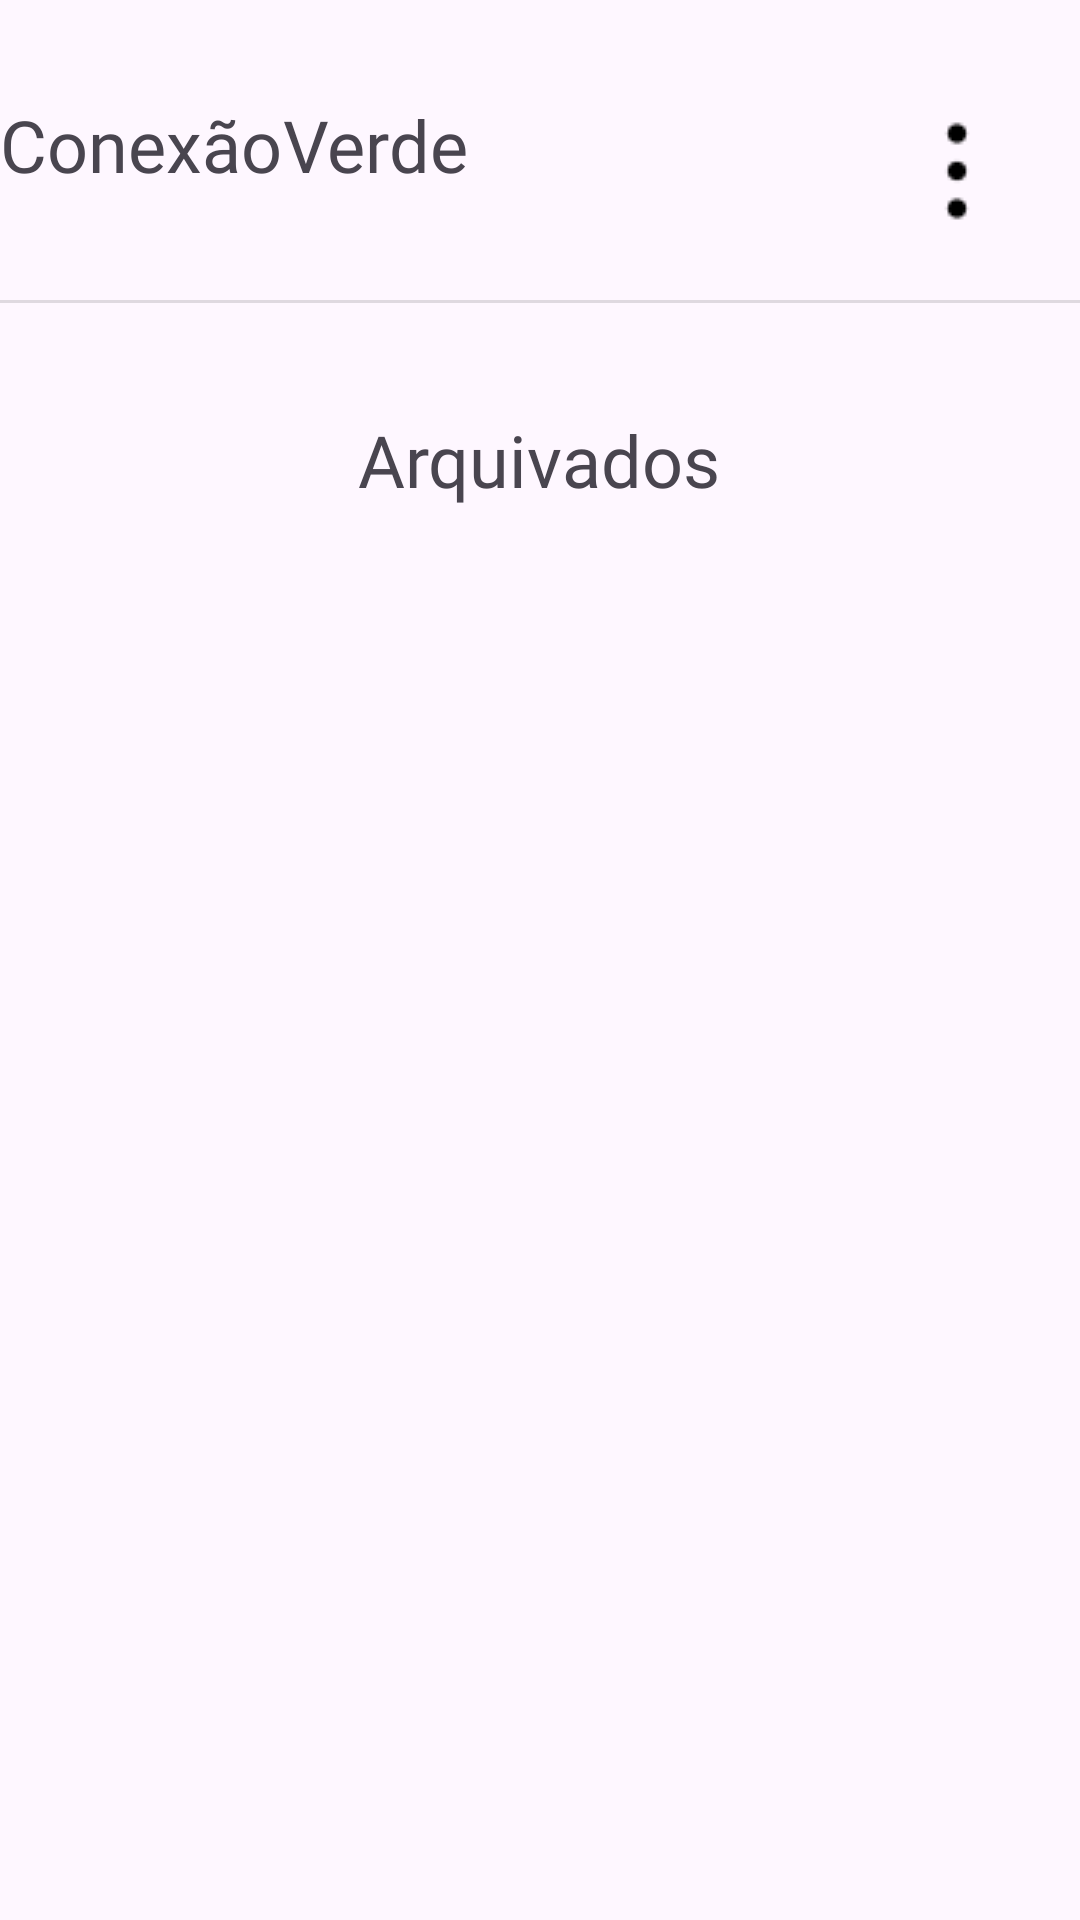

Icon click points for this 1080*1920 phone screenshot, format [x,y]:
tres pontos: [957,171]
